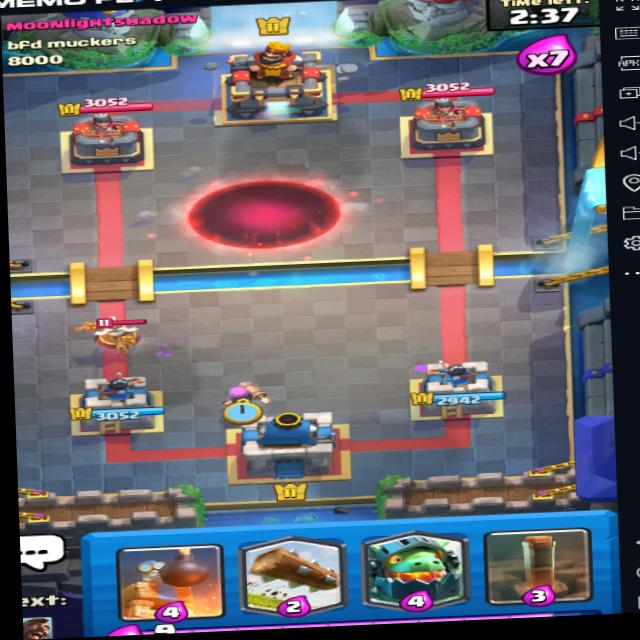monk: (72, 304, 154, 355)
void: (186, 178, 343, 255)
